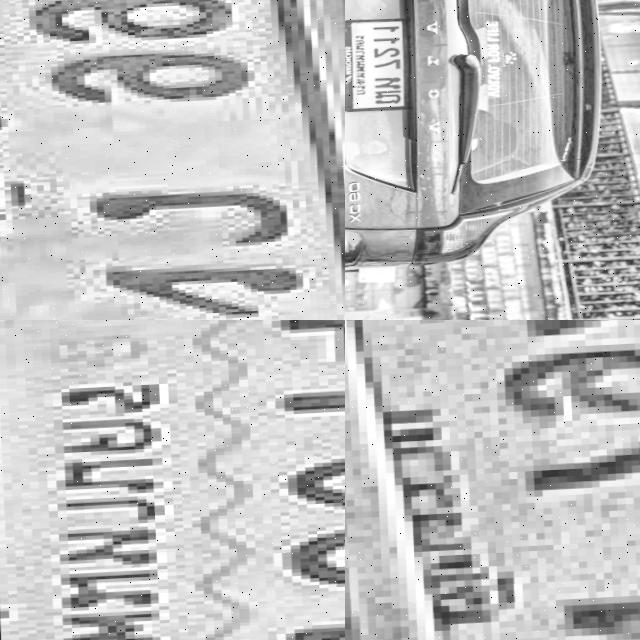license-plate: (0, 0, 345, 320), (0, 320, 345, 640), (345, 320, 640, 640), (345, 13, 417, 117)
